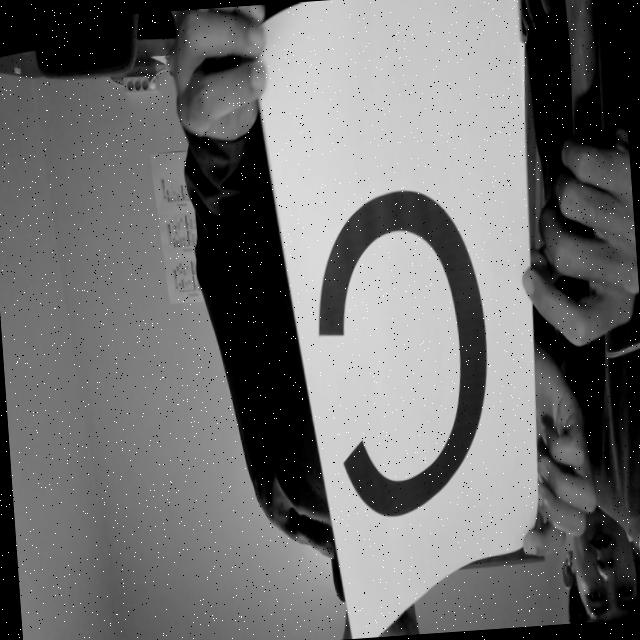c: (306, 172, 522, 542)
